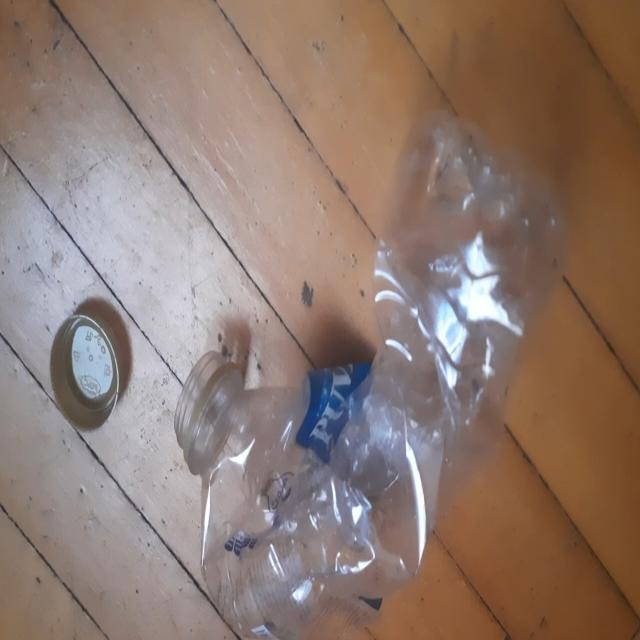Plastic: (175, 108, 566, 638)
